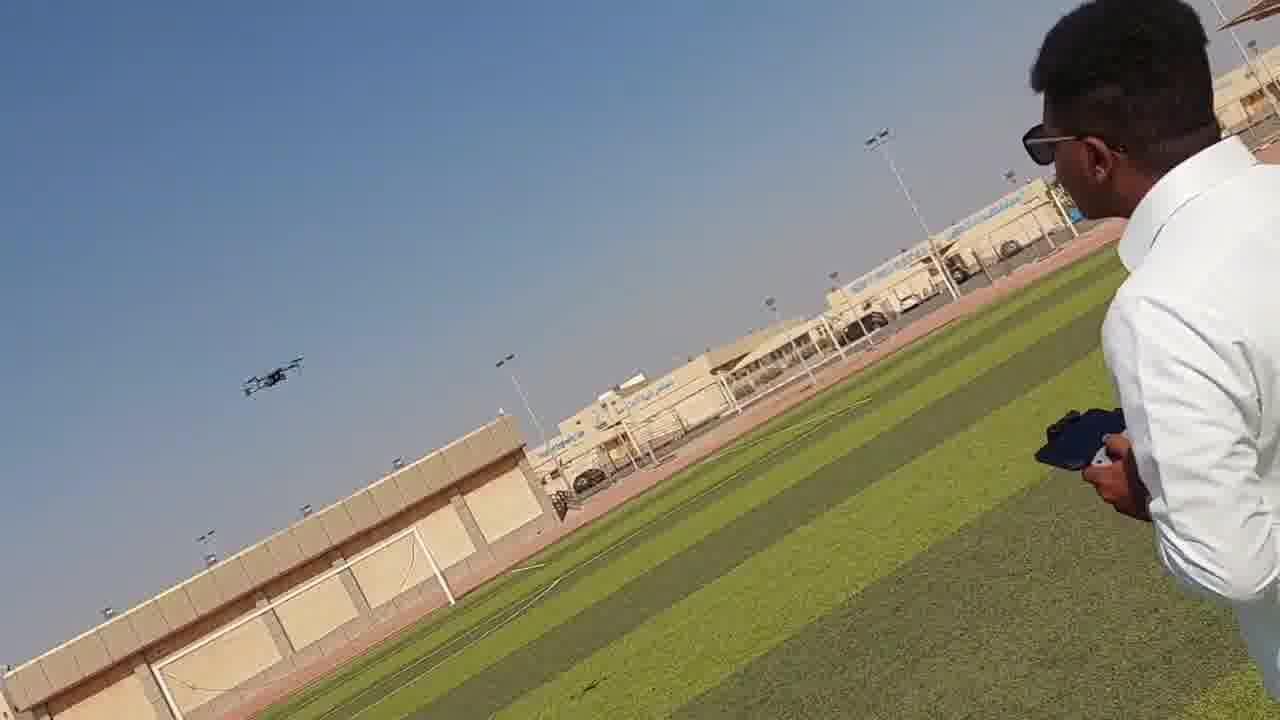drone: (237, 335, 302, 410)
